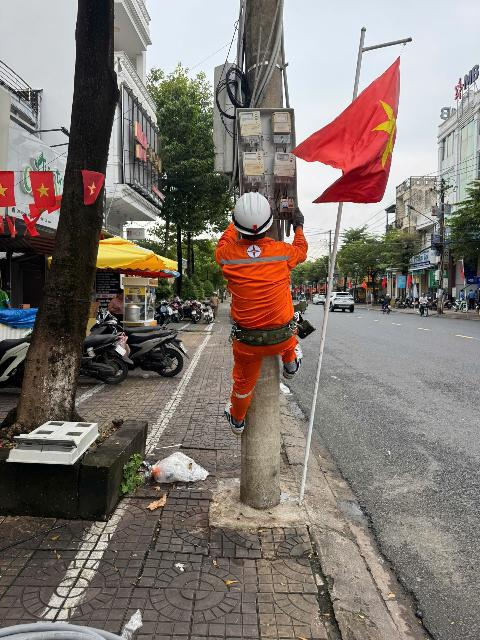gloves: (291, 207, 306, 232)
harness: (225, 313, 315, 348)
helmet: (231, 193, 281, 240)
shoes: (274, 341, 307, 379), (221, 400, 249, 433)
